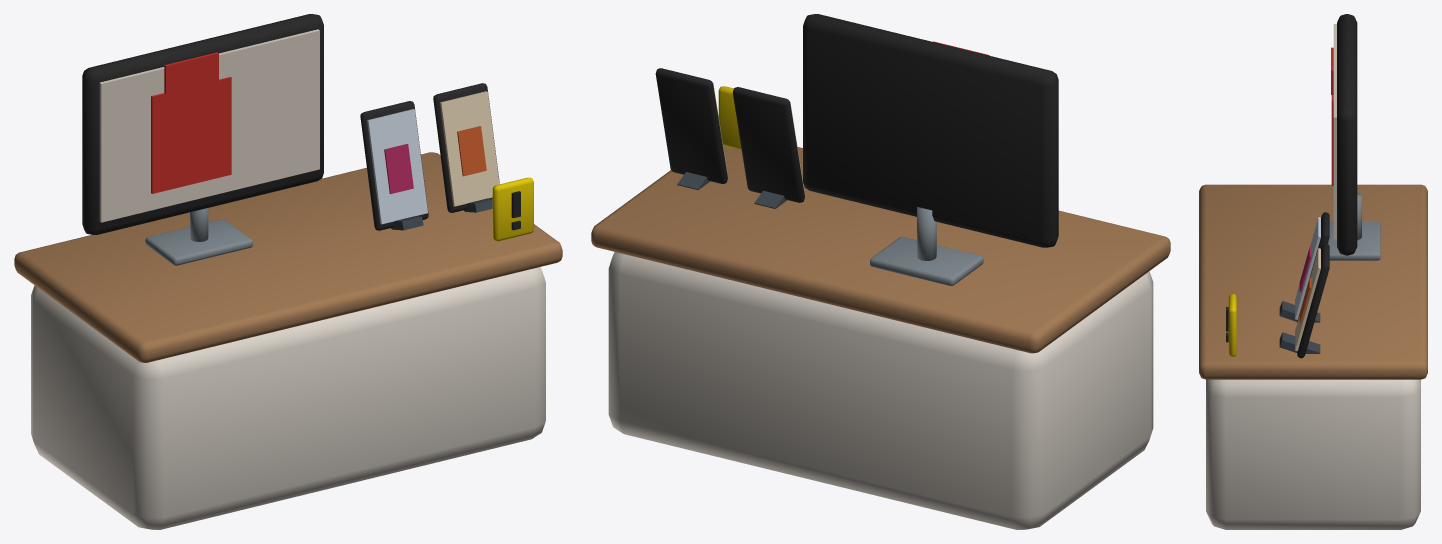
Rendered from m_phones.glb.
The picture shows the model from 3 angles, left to right: view 1: azimuth 30°, elevation 25°; view 2: azimuth 150°, elevation 25°; view 3: azimuth 270°, elevation 25°; orthographic projection. The views are drawn at different scales.
Parts seen in each view (by area): view 1: m_phones; view 2: m_phones; view 3: m_phones.
Part boxes in pixels (x1,y1,x2,y2): m_phones: [14, 14, 562, 529]; m_phones: [591, 14, 1170, 529]; m_phones: [1199, 14, 1427, 529].
Size of the model in its own units: 0.64 by 0.59 by 0.34.
